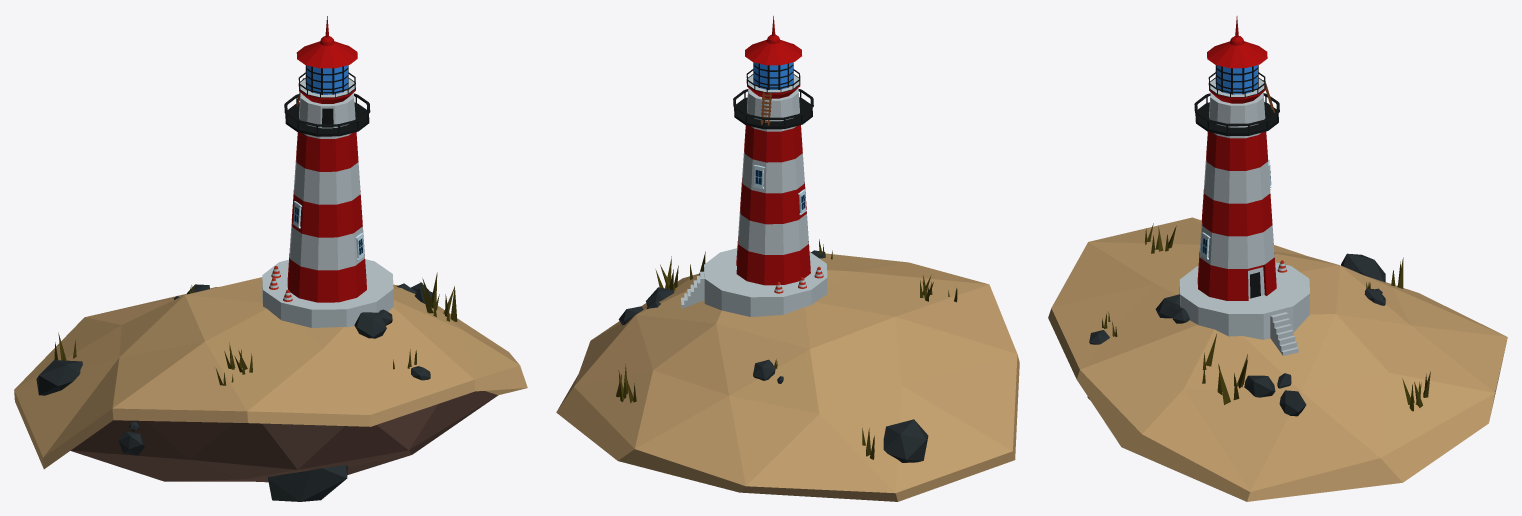
The model's file is lightHouse.obj.
3 renders of one model, left to right at view 1: azimuth 30°, elevation 25°; view 2: azimuth 150°, elevation 25°; view 3: azimuth 270°, elevation 25°, orthographic. The views are drawn at different scales.
Visible parts, largest first — view 1: island_Cylinder.001, lighthouse_Cylinder; view 2: island_Cylinder.001, lighthouse_Cylinder; view 3: island_Cylinder.001, lighthouse_Cylinder.
Part boxes in pixels (x1,y1,x2,y2): island_Cylinder.001: [14, 272, 527, 501]; lighthouse_Cylinder: [262, 16, 393, 327]; island_Cylinder.001: [556, 239, 1019, 501]; lighthouse_Cylinder: [681, 16, 827, 316]; island_Cylinder.001: [1048, 217, 1507, 501]; lighthouse_Cylinder: [1179, 16, 1309, 355].
Bounding box in the file's own units: 7.06 × 6.92 × 6.16.
